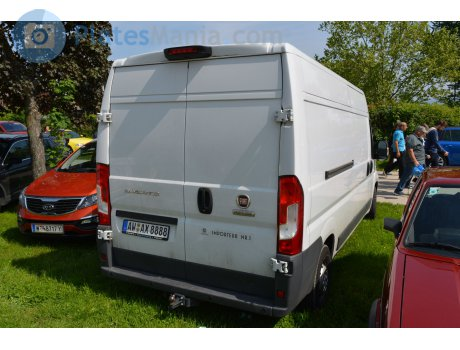License Plates: (131, 221, 167, 233)
